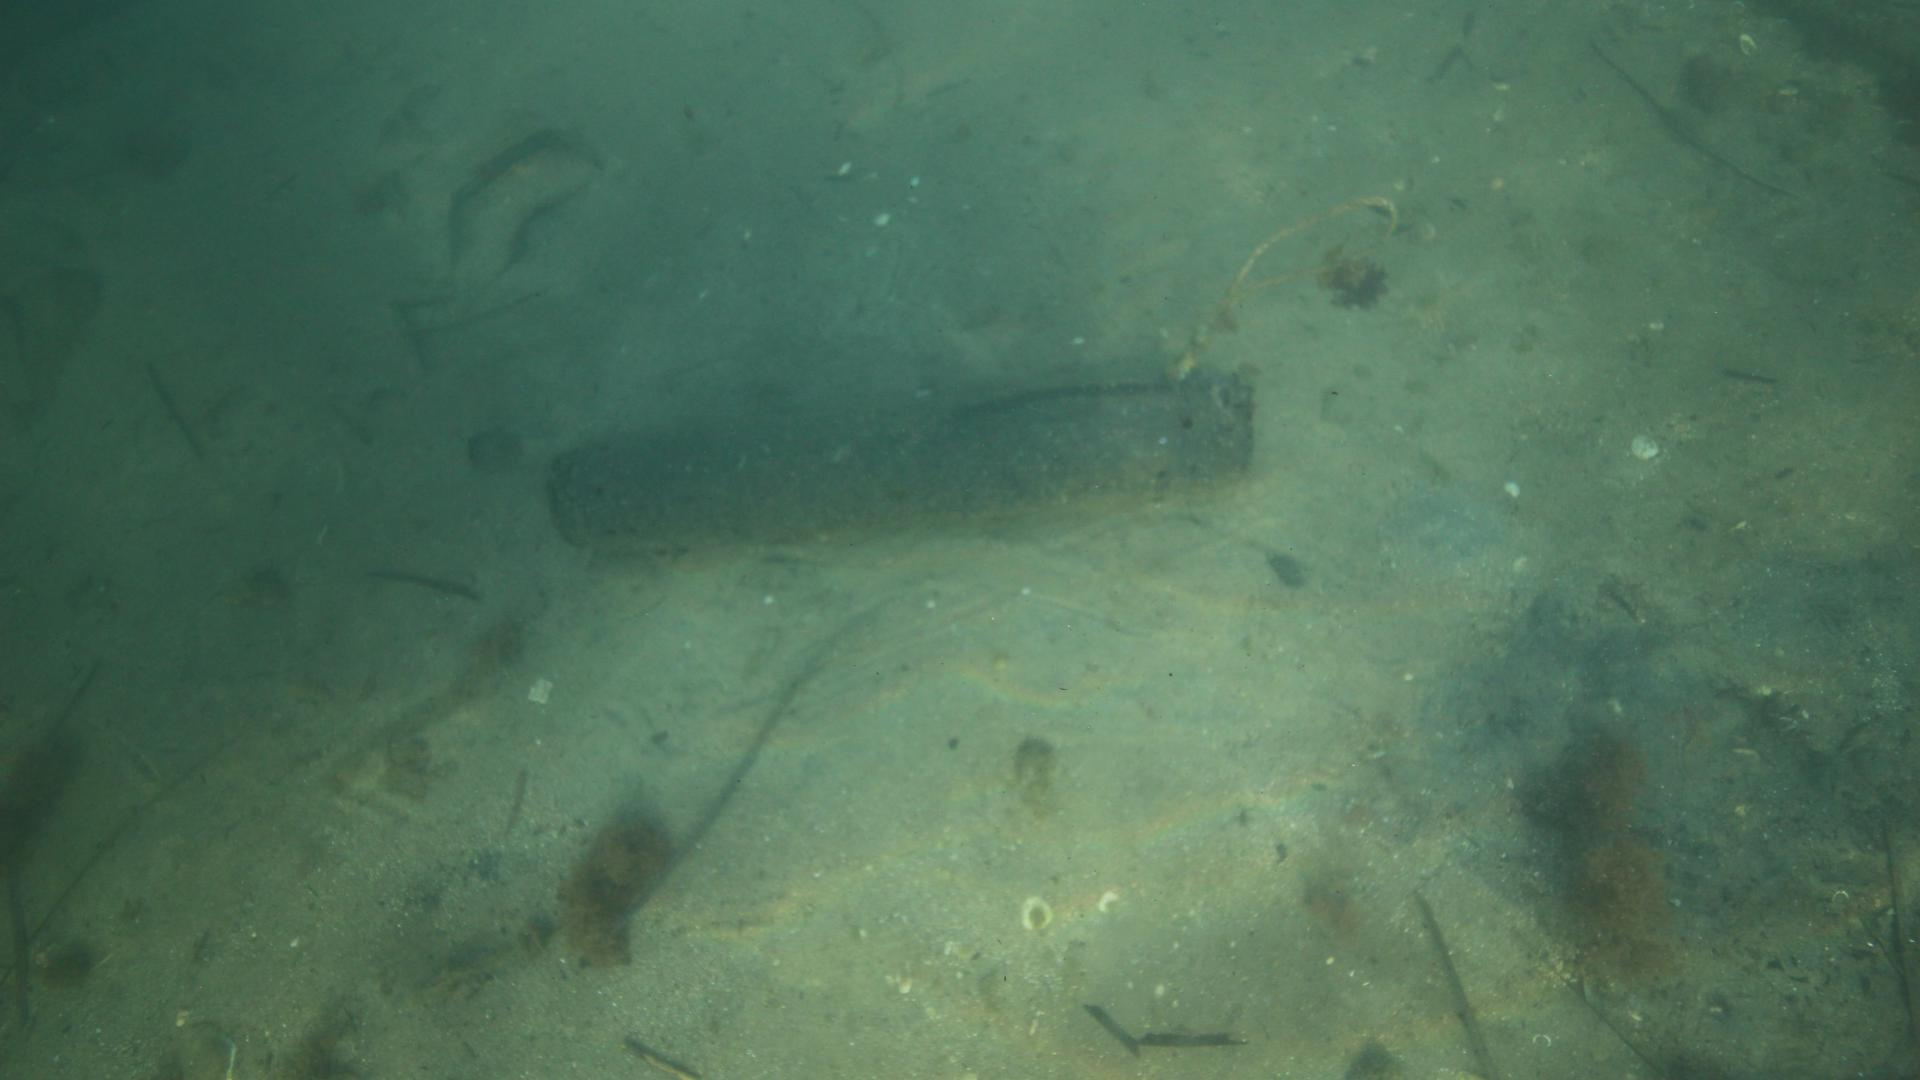eel fish trap: (537, 361, 1261, 556)
rope: (1168, 190, 1399, 371)
